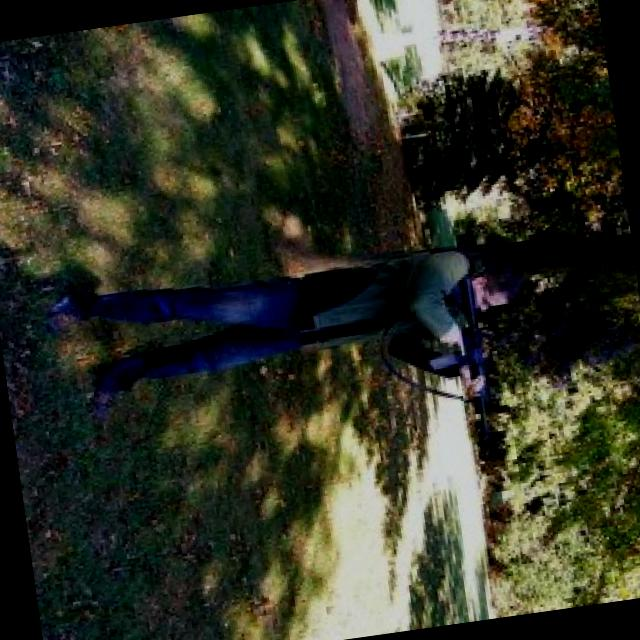long weapon: (397, 272, 508, 468)
